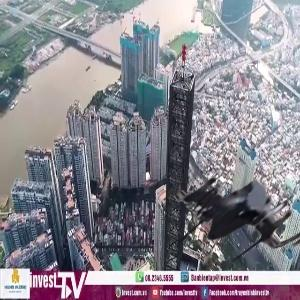drone: (158, 156, 292, 290)
